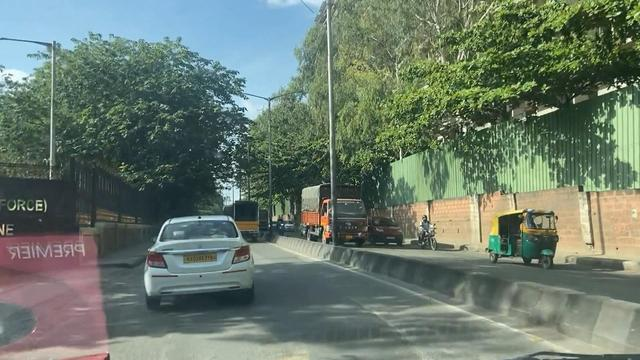HMV: (295, 181, 367, 254)
